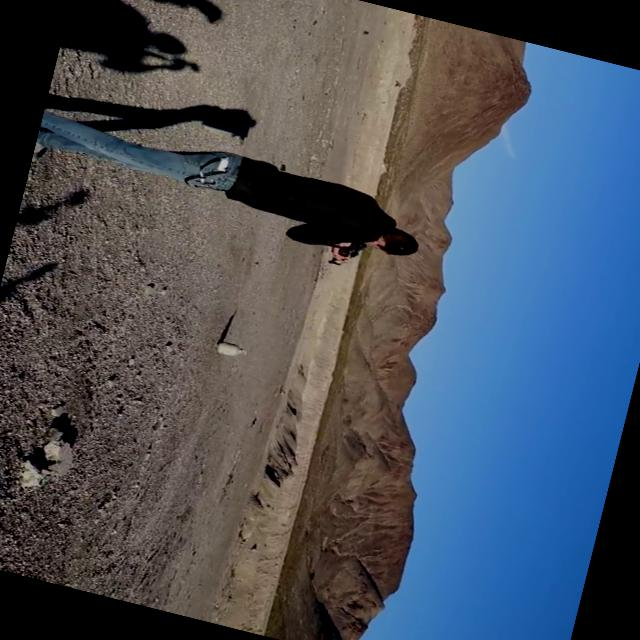long weapon: (311, 228, 374, 282)
